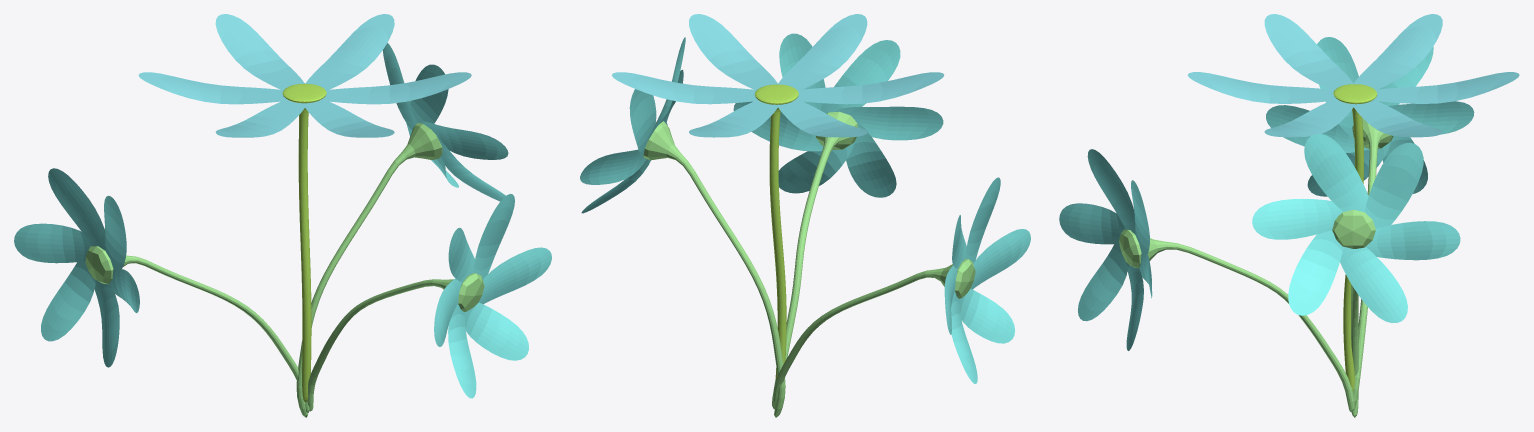
File: Flower-blue.fbx
The picture shows the model from 3 angles, left to right: view 1: azimuth 30°, elevation 25°; view 2: azimuth 150°, elevation 25°; view 3: azimuth 270°, elevation 25°; orthographic projection.
Visible parts, largest first — view 1: 柱体; view 2: 柱体; view 3: 柱体.
Boxes of the visible parts, left/top/right/bottom form: 柱体: left=14, top=14, right=551, bottom=417; 柱体: left=580, top=14, right=1030, bottom=417; 柱体: left=1059, top=14, right=1519, bottom=417.
Bounding box in the file's own units: 1546 × 1237 × 1509.
